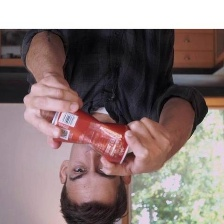can: (44, 107, 137, 166)
